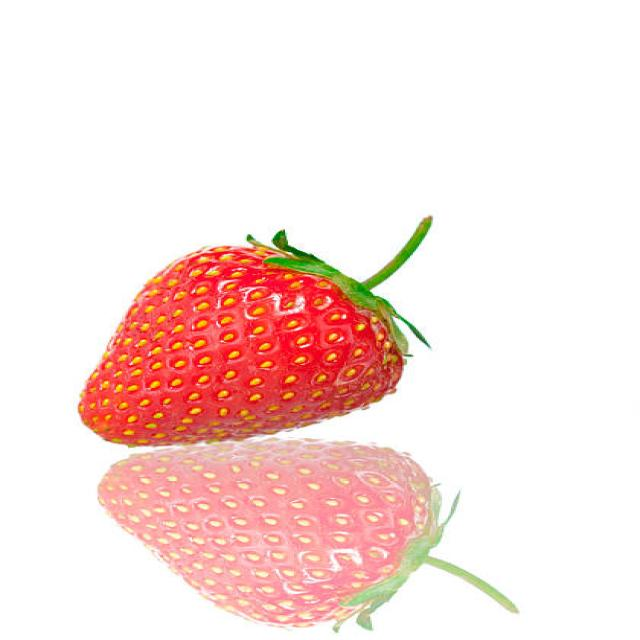Healthy Fruit: (81, 244, 404, 447)
